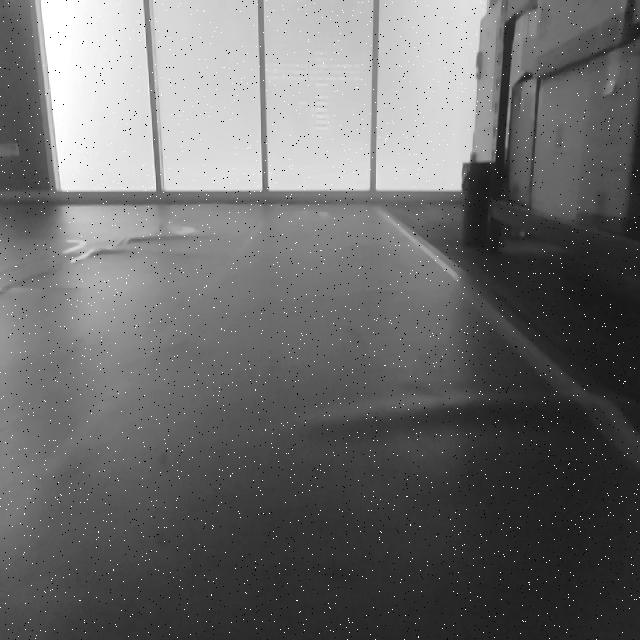left_lane: (0, 214, 267, 546)
right_lane: (383, 209, 640, 467)
